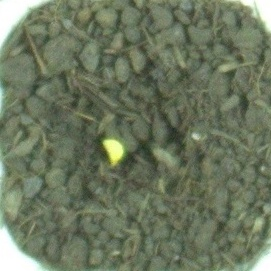chilli seed: (98, 137, 131, 168)
